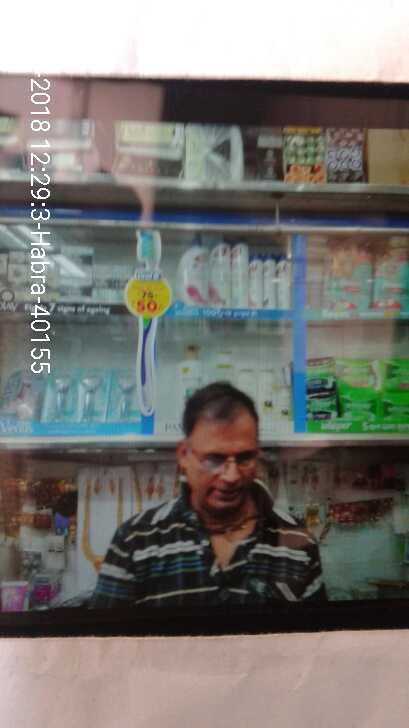venus: (7, 372, 44, 420), (77, 370, 109, 425), (44, 370, 77, 420), (109, 369, 138, 425)
